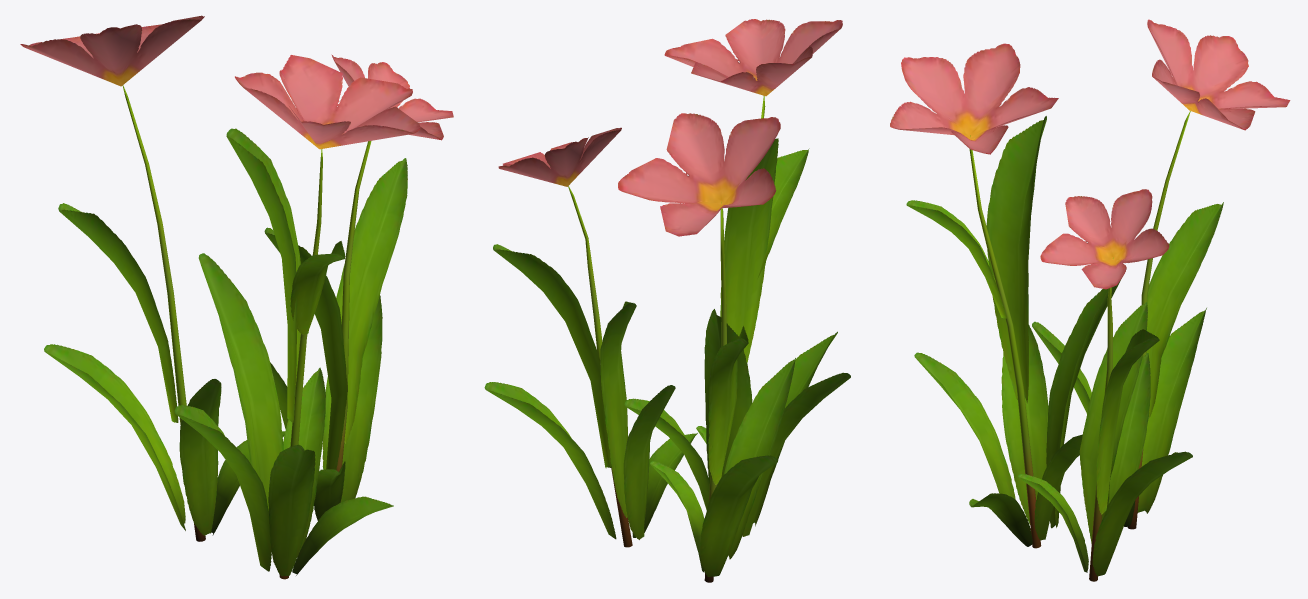
File: flowers-1.glb
3 views of the same model, side by side, from view 1: azimuth 30°, elevation 25°; view 2: azimuth 150°, elevation 25°; view 3: azimuth 270°, elevation 25° (orthographic). The views are drawn at different scales.
Parts seen in each view (by area): view 1: Flower_3_Group; view 2: Flower_3_Group; view 3: Flower_3_Group.
Part boxes in pixels (<box>): Flower_3_Group: <box>20,15,453,579</box>; Flower_3_Group: <box>484,19,850,582</box>; Flower_3_Group: <box>890,19,1290,581</box>.
Bounding box in the file's own units: 1.49 × 2.05 × 1.59.
2 materials, 2 textured.
